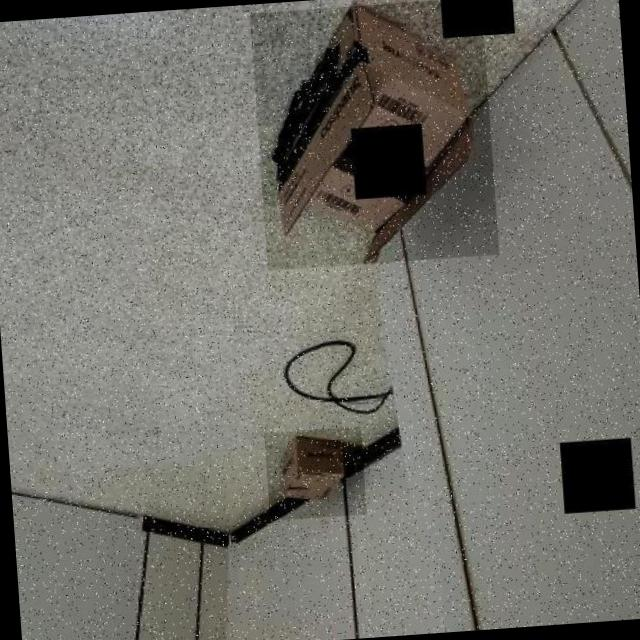box: (249, 0, 498, 271), (264, 426, 366, 520)
